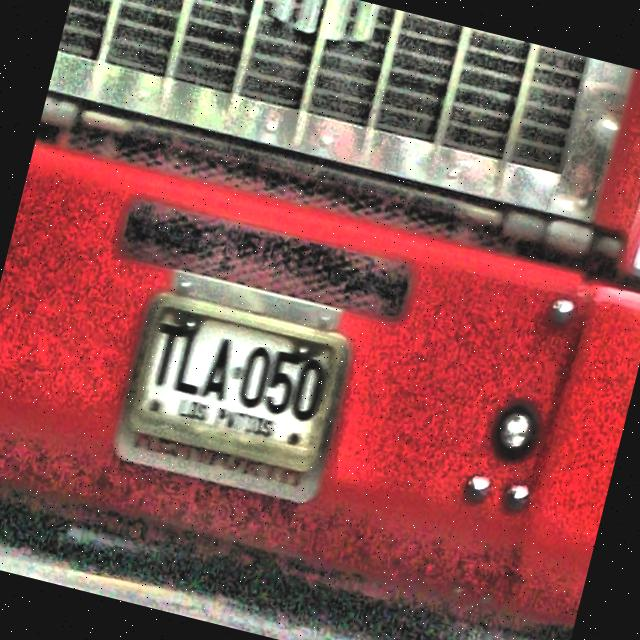0: (233, 342, 276, 412), (287, 356, 329, 424)
5: (260, 349, 302, 418)
A: (198, 334, 240, 405)
L: (172, 328, 212, 398)
T: (144, 320, 188, 390)
